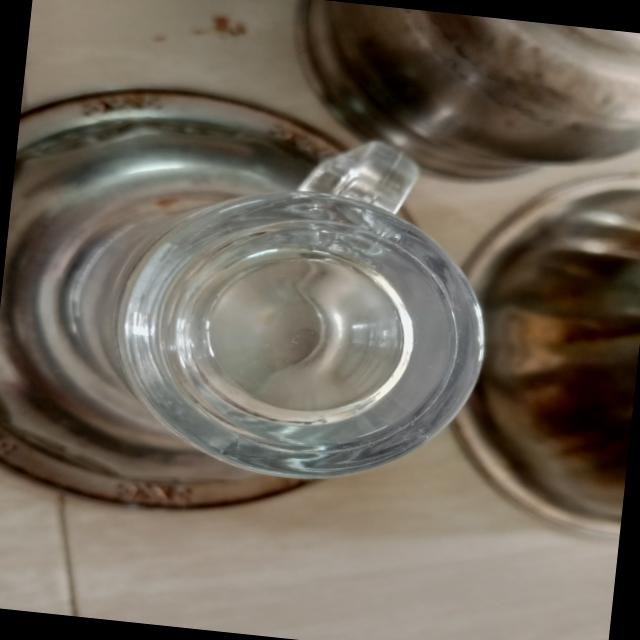glass-VX4N: (14, 104, 505, 494)
